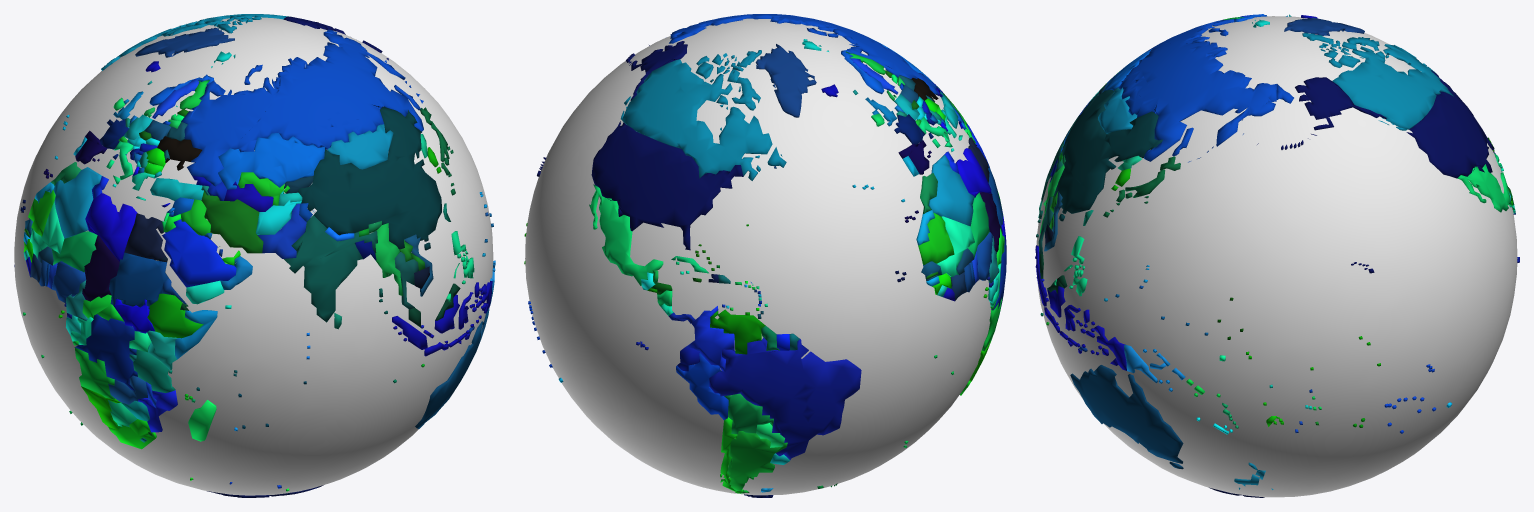
The model's file is planet_lod_2.gltf.
The picture shows the model from 3 angles, left to right: view 1: azimuth 30°, elevation 25°; view 2: azimuth 150°, elevation 25°; view 3: azimuth 270°, elevation 25°; orthographic projection.
Visible parts, largest first — view 1: _Water; view 2: _Water; view 3: _Water.
Boxes of the visible parts, x1,y1,x2,y2 form: _Water: [14, 14, 495, 497]; _Water: [524, 14, 1006, 497]; _Water: [1035, 14, 1519, 497].
Size of the model in its own units: 4.02 by 4.04 by 4.03.
